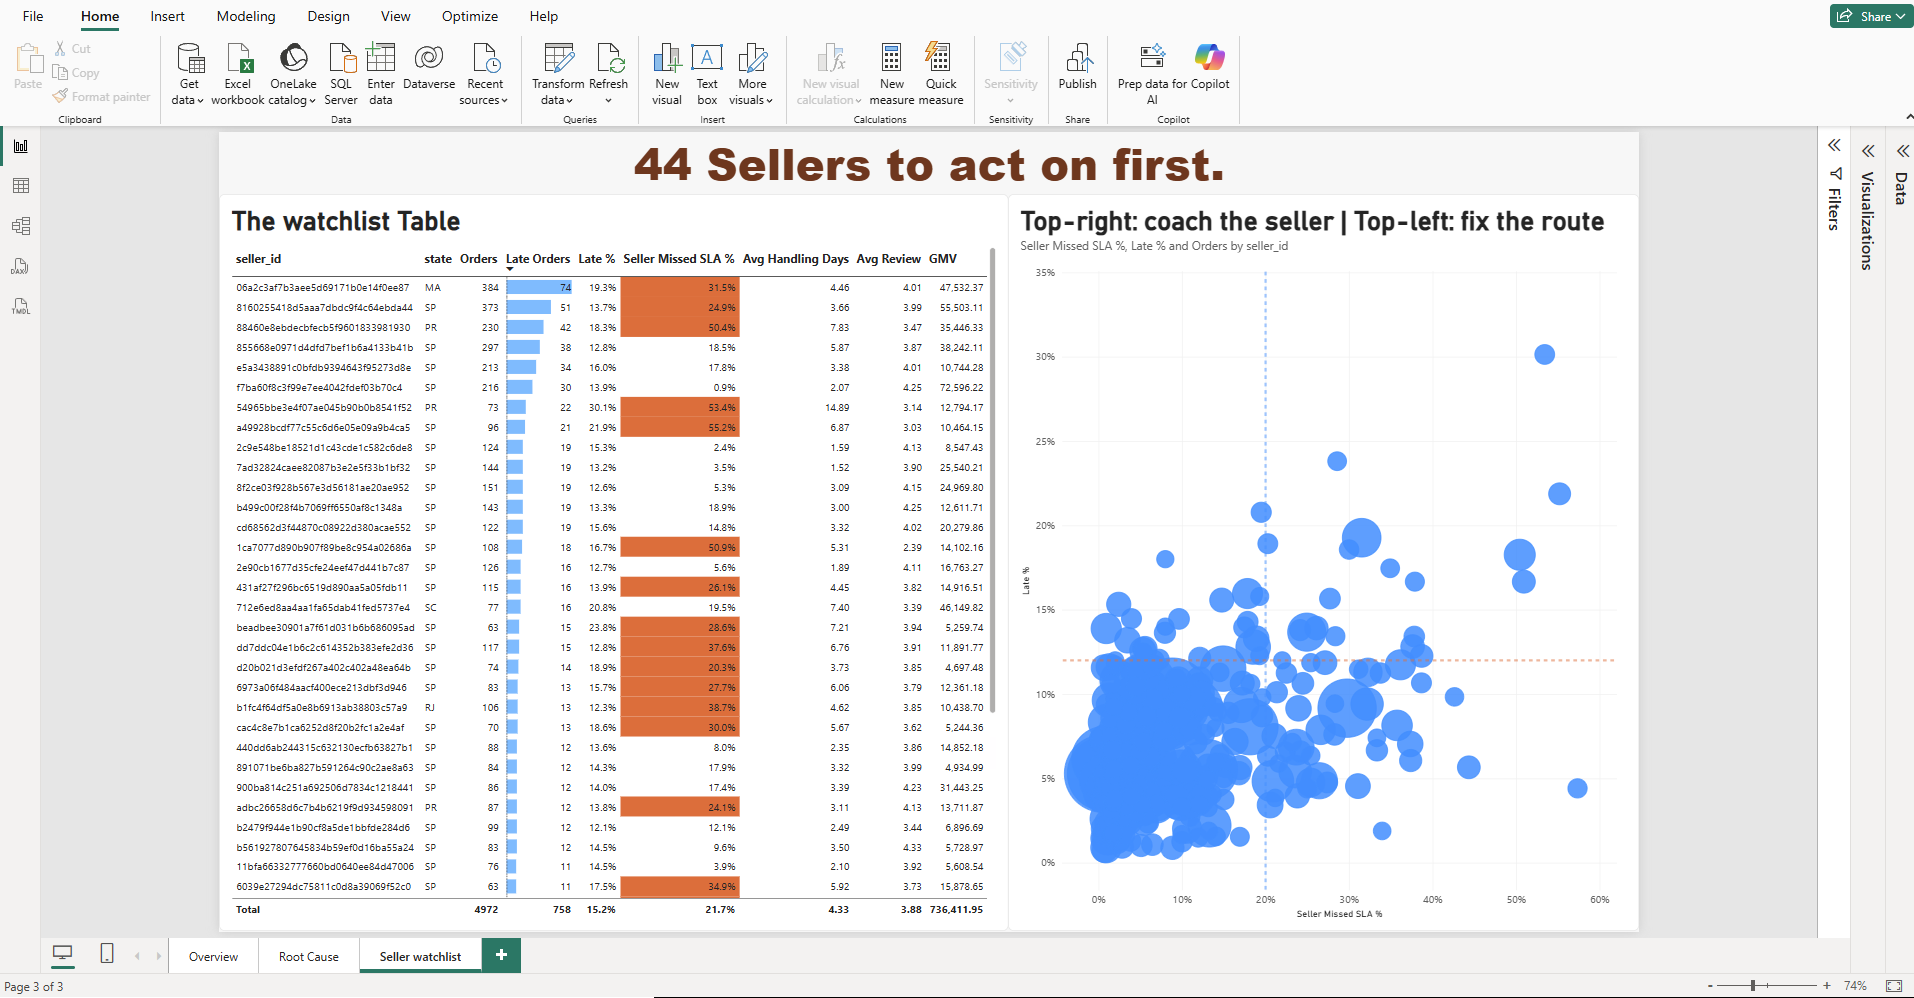

The page's visual inventory and layout, read from the dashboard file:
{"tool":"powerbi","page":{"name":"Seller watchlist","canvas":[1920,1080],"ordinal":2},"visuals":[{"type":"tableEx","title":"The watchlist Table","fields":{"Values":["dim_seller.seller_id","dim_seller.state","_Measures.Orders","_Measures.Late Orders","_Measures.Late %","_Measures.Seller Missed SLA %","_Measures.Avg Handling Days","_Measures.Avg Review","_Measures.GMV"]},"box":[0,83.2,1066.5,996.5],"z":0},{"type":"scatterChart","title":"Top-right: coach the seller | Top-left: fix the route","fields":{"Category":["dim_seller.seller_id"],"Size":["_Measures.Orders"],"X":["_Measures.Seller Missed SLA %"],"Y":["_Measures.Late %"]},"box":[1066.5,83.2,853.5,996.5],"z":1},{"type":"textbox","box":[0,0,1920,83.2],"z":2}]}

Visuals, with their boxes on the page's 1920x1080 design canvas (x1, y1, x2, y2). These are canvas units, not pixel positions in the 1914x998 screenshot, which may show the page scaled, cropped or inside an application window:
"The watchlist Table" tableEx: bbox=[0, 83, 1066, 1080]
"Top-right: coach the seller | Top-left: fix the route" scatterChart: bbox=[1066, 83, 1920, 1080]
textbox: bbox=[0, 0, 1920, 83]
